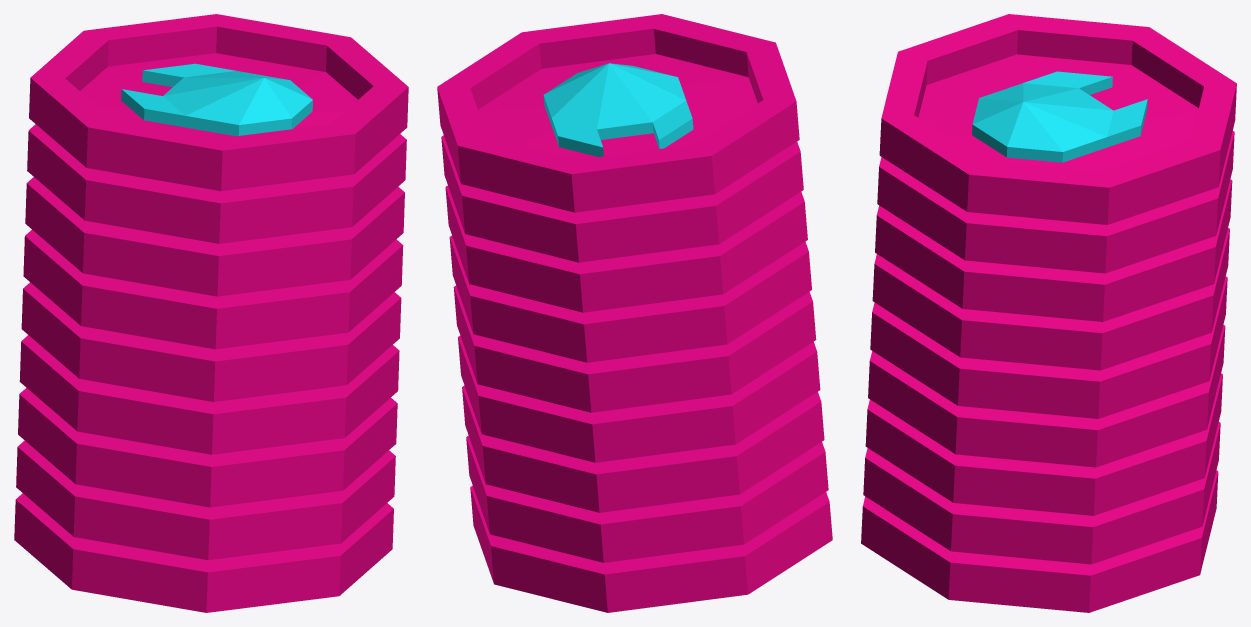
Rendered from meelk_tokentower4.glb.
3 renders of one model, left to right at view 1: azimuth 30°, elevation 25°; view 2: azimuth 150°, elevation 25°; view 3: azimuth 270°, elevation 25°, orthographic. The views are drawn at different scales.
Parts seen in each view (by area): view 1: Cylinder.008; view 2: Cylinder.008; view 3: Cylinder.008.
Boxes of the visible parts, x1=… form: Cylinder.008: x1=14, y1=14, x2=408, y2=612; Cylinder.008: x1=437, y1=14, x2=832, y2=612; Cylinder.008: x1=861, y1=14, x2=1236, y2=612.
Size of the model in its own units: 0.6789 by 0.8984 by 0.6631.
